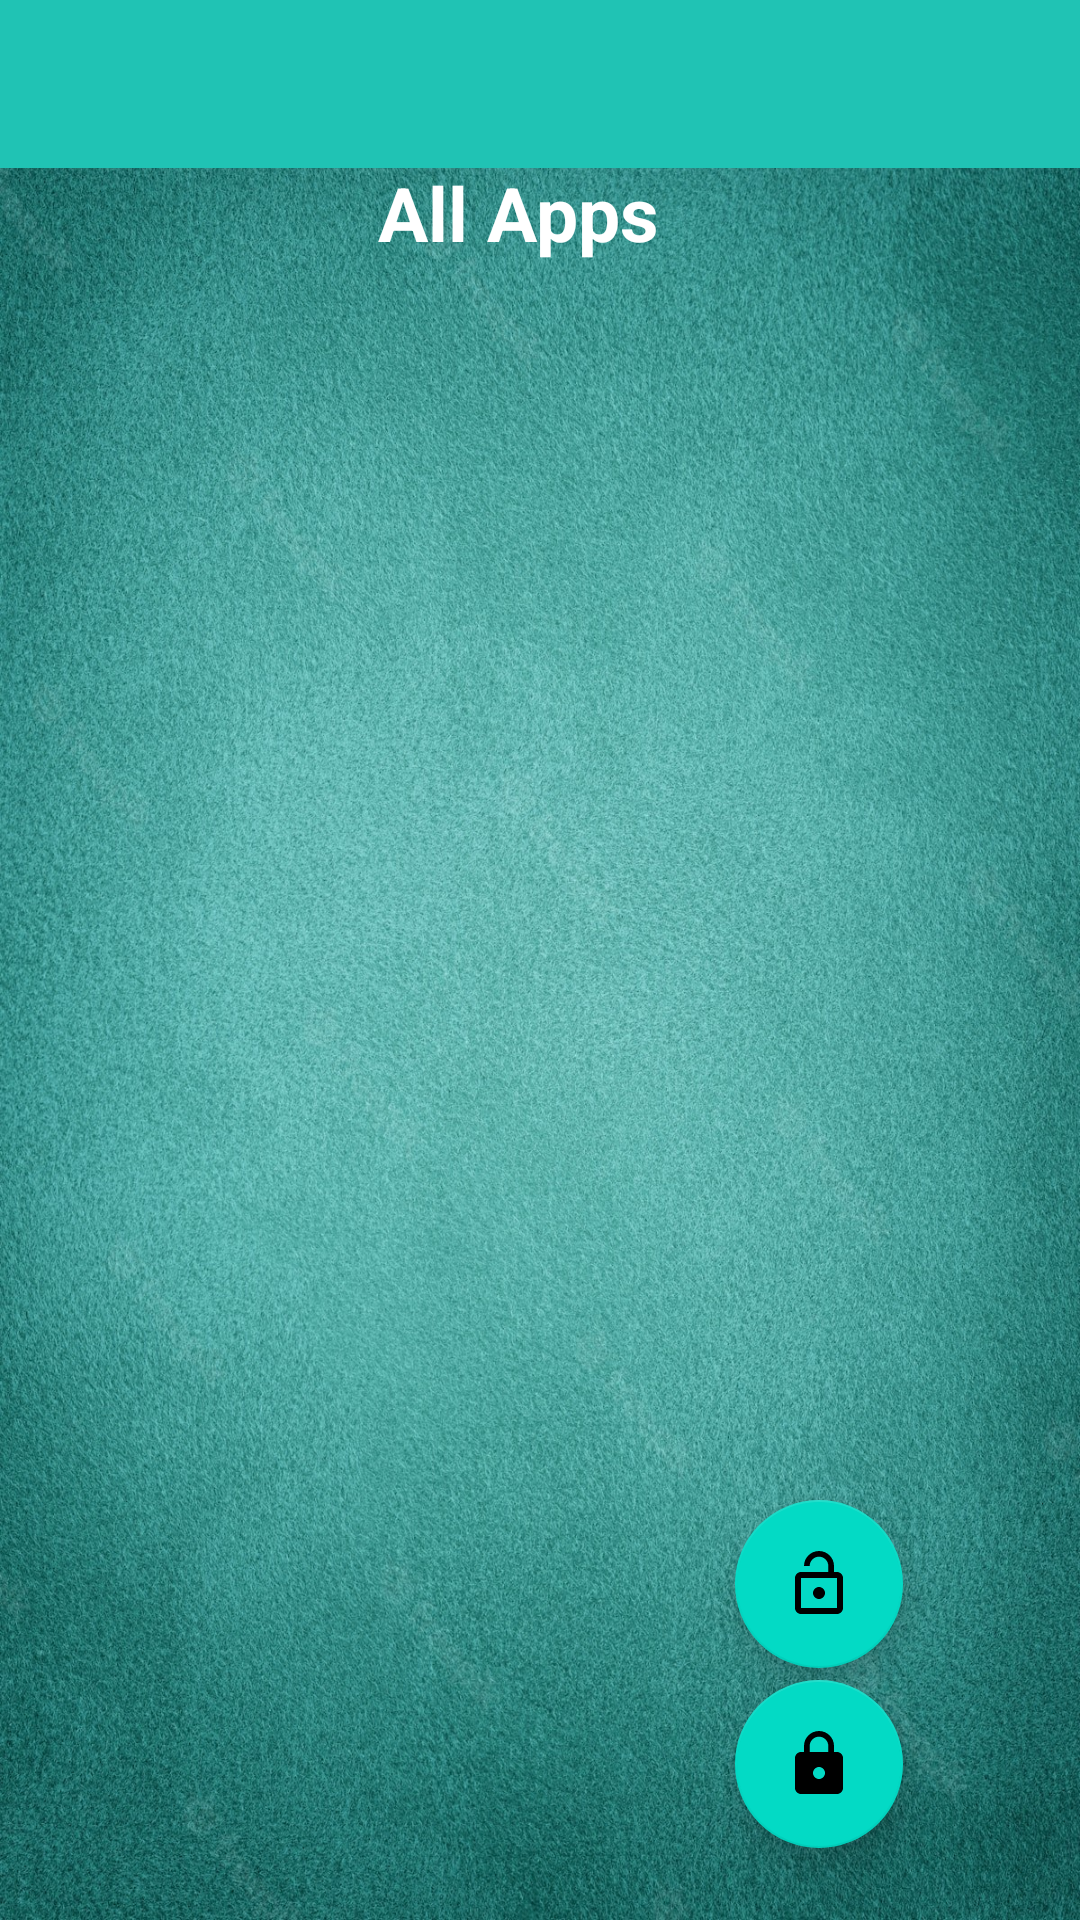

Screen size 1080 × 1920. Icon name, then its center in pixels as (x=x, y=y):
lock: (x=819, y=1764)
lock open: (x=819, y=1584)
